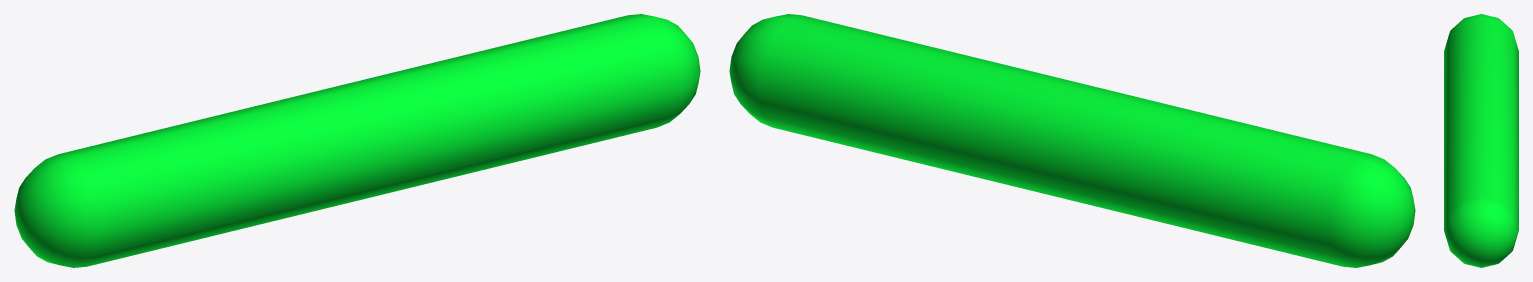
Rendered from verde_proiettile.obj.
The picture shows the model from 3 angles, left to right: view 1: azimuth 30°, elevation 25°; view 2: azimuth 150°, elevation 25°; view 3: azimuth 270°, elevation 25°; orthographic projection. The views are drawn at different scales.
Visible parts, largest first — view 1: Capsule003; view 2: Capsule003; view 3: Capsule003.
Boxes of the visible parts, <box> form: Capsule003: <box>14,14,700,267</box>; Capsule003: <box>729,14,1415,267</box>; Capsule003: <box>1444,14,1518,267</box>.
Size of the model in its own units: 400 by 60 by 60.
